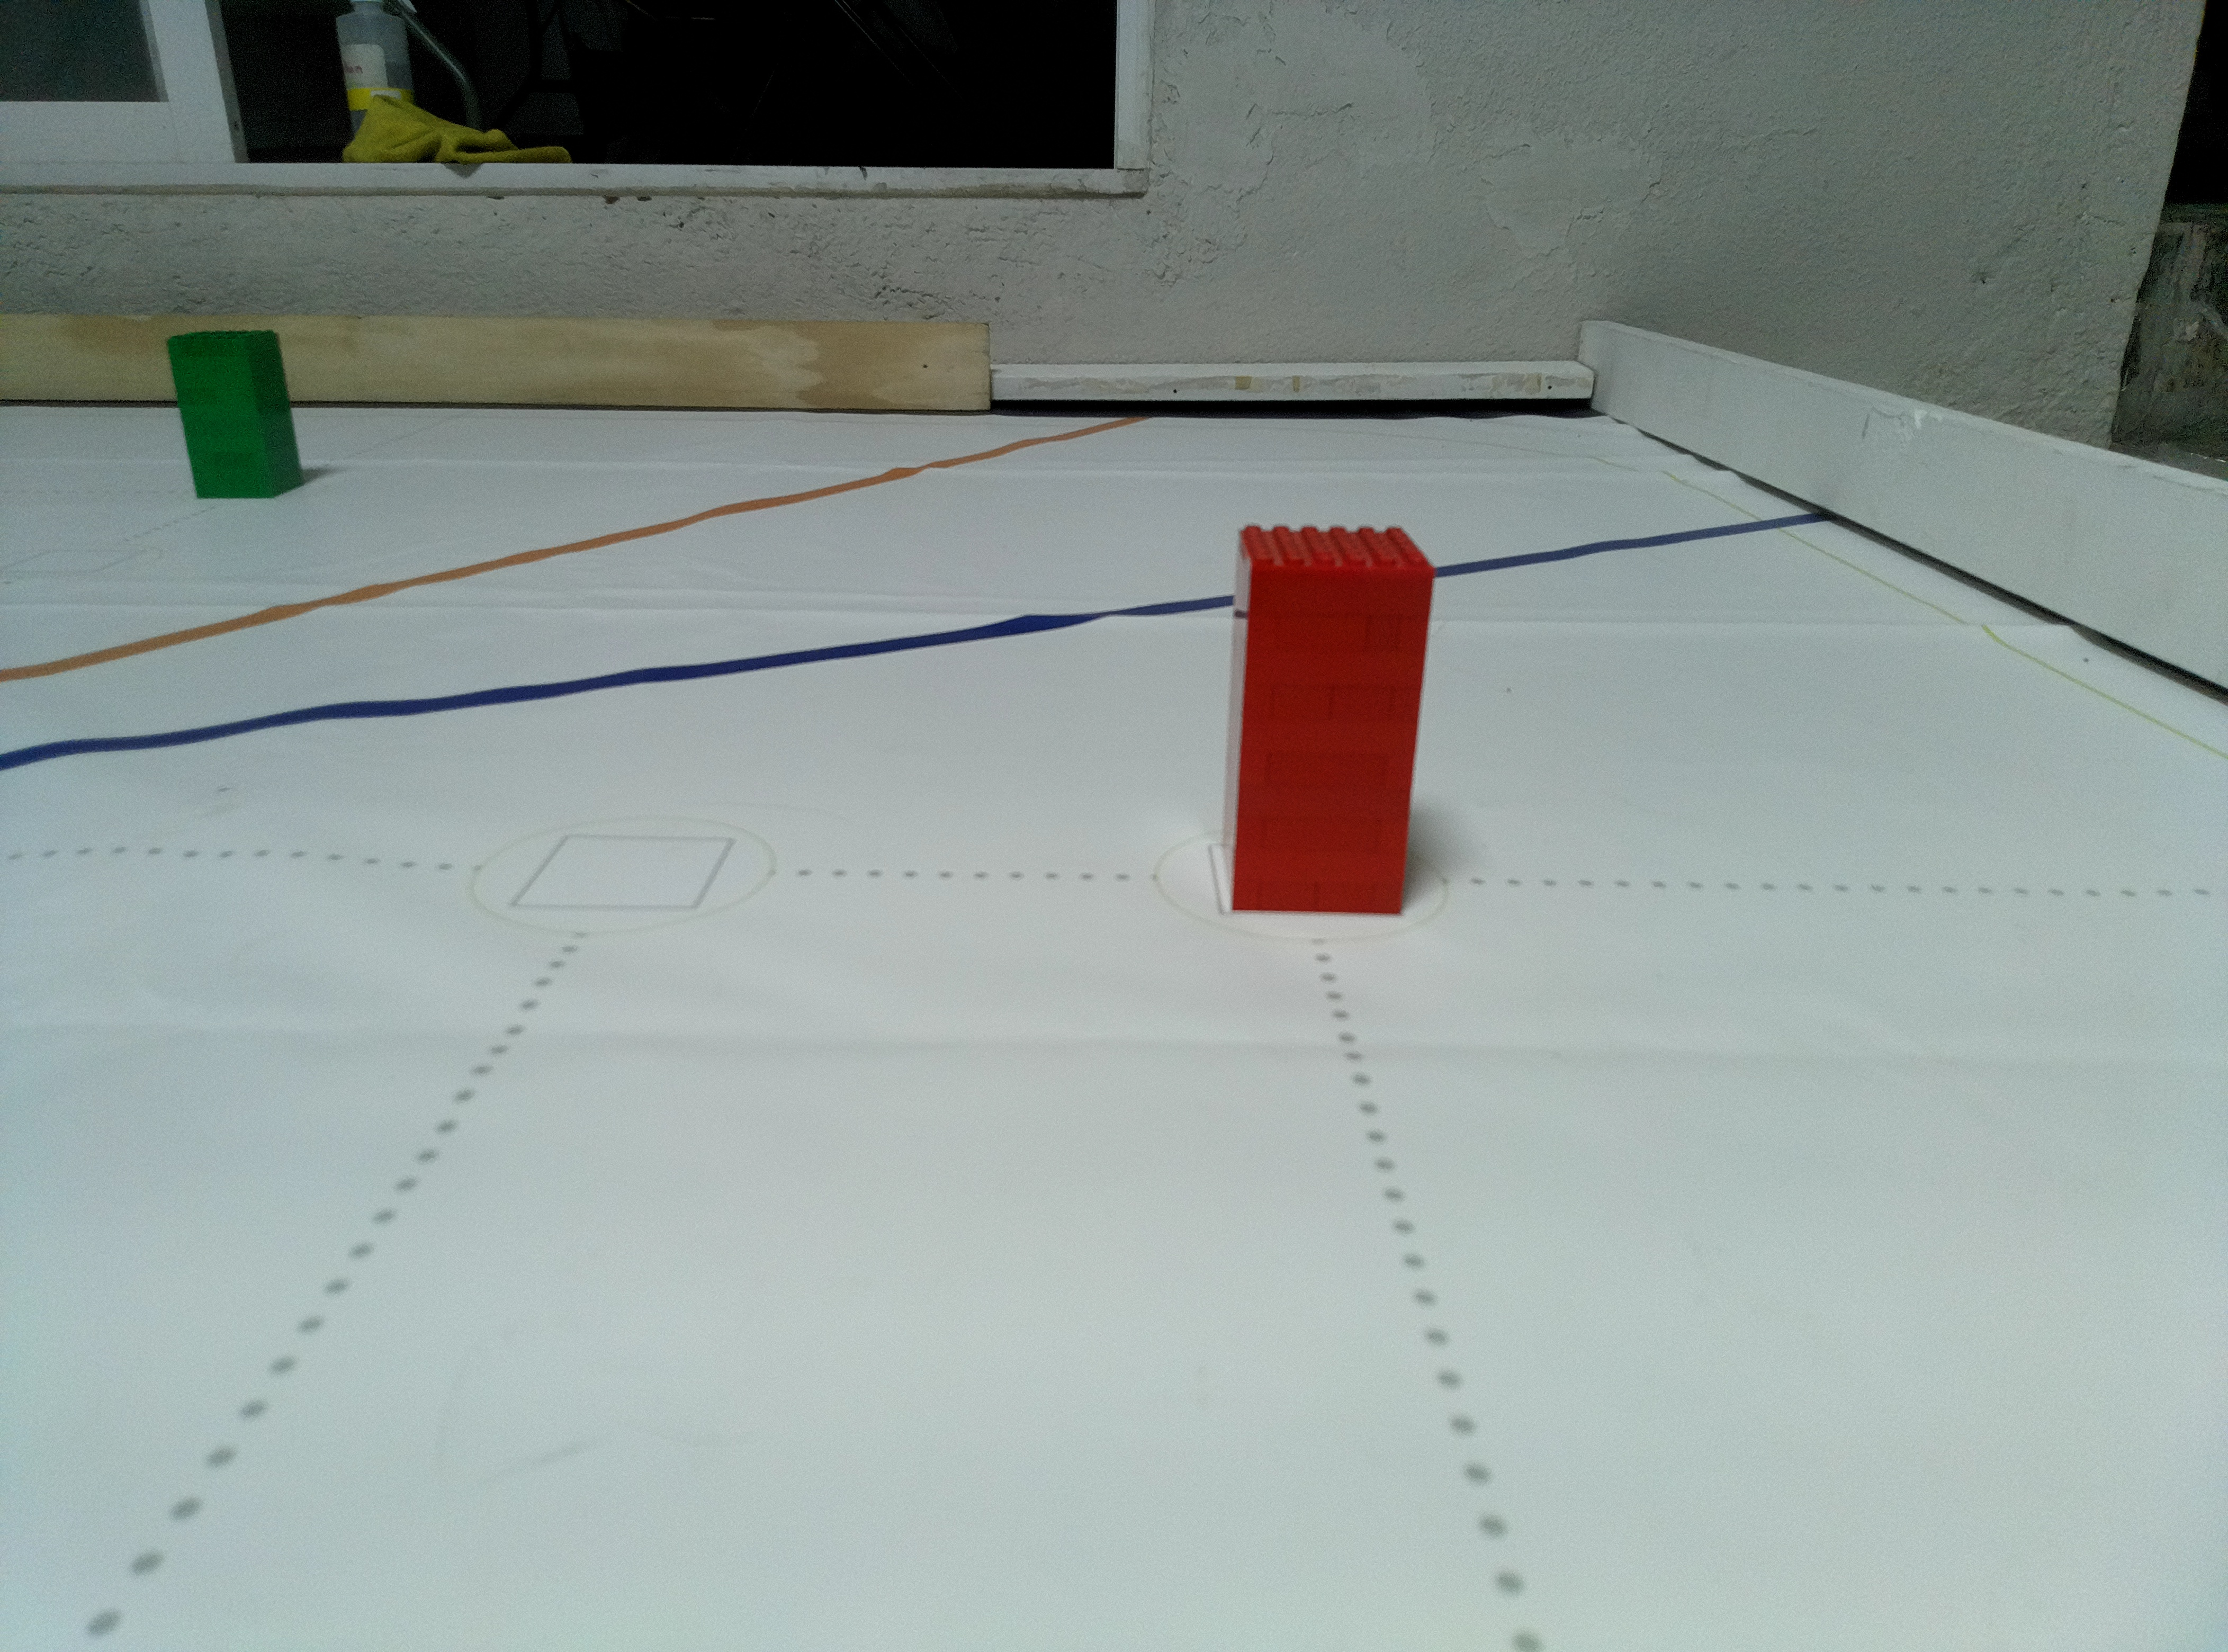greenbox: (163, 328, 307, 503)
redbox: (1211, 524, 1435, 920)
